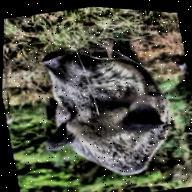boar: (22, 16, 184, 192)
